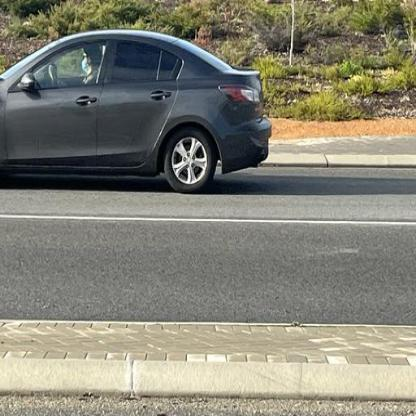Tire: (164, 126, 217, 194)
